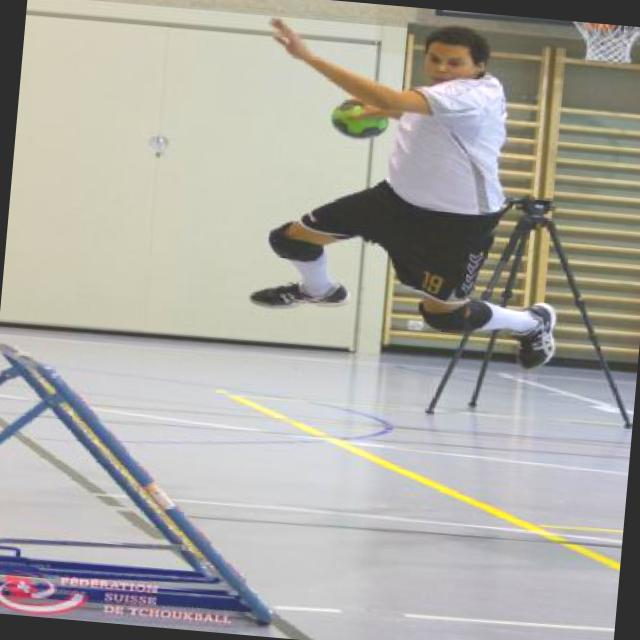Person: (242, 4, 584, 373)
